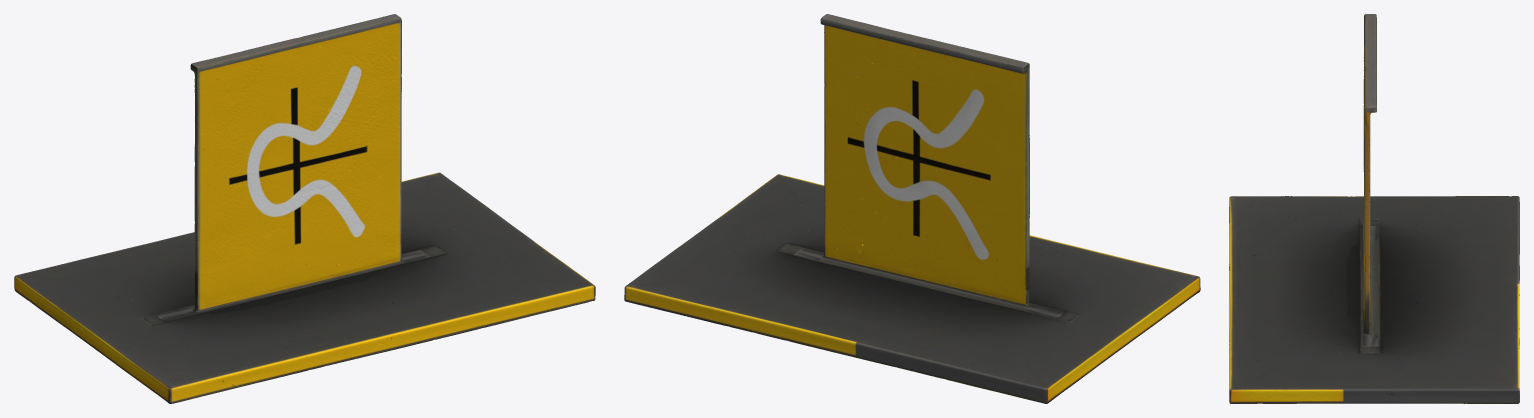
File: Meshy_AI_Isometric_Yellow_Pane_0303085120_texture.glb
3 views of the same model, side by side, from view 1: azimuth 30°, elevation 25°; view 2: azimuth 150°, elevation 25°; view 3: azimuth 270°, elevation 25° (orthographic). The views are drawn at different scales.
Bounding box in the file's own units: 2.01 × 1.17 × 1.27.
1 material, 1 textured.
